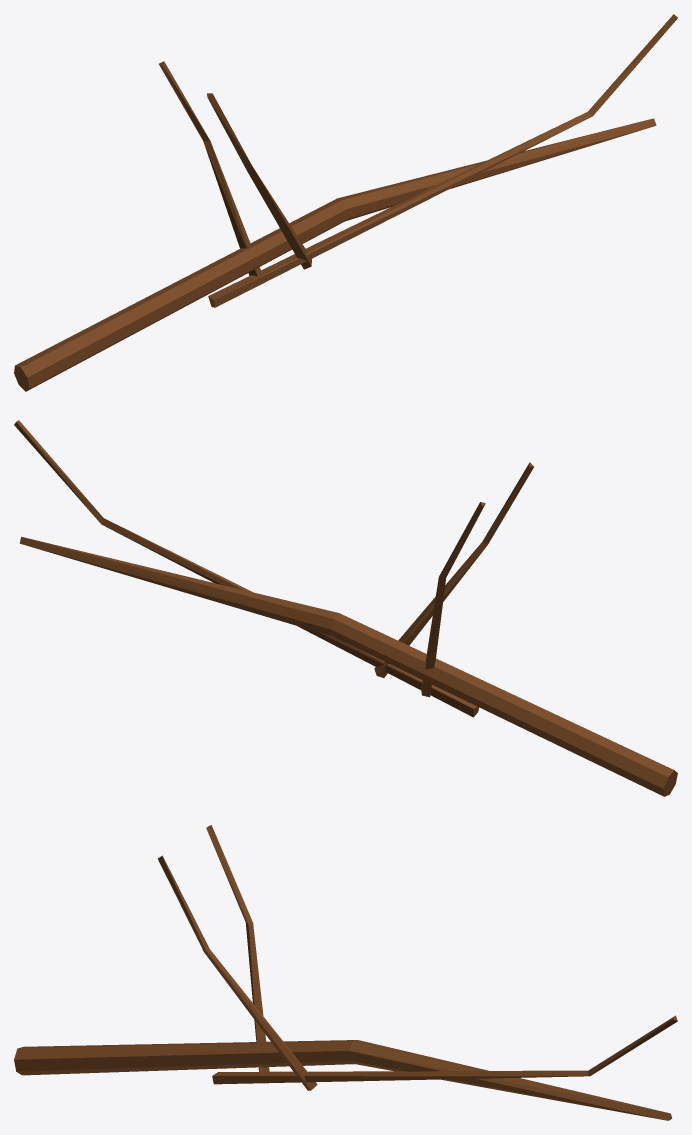
Rendered from terra_branch_a.fbx.
The picture shows the model from 3 angles, top to bottom: view 1: azimuth 30°, elevation 25°; view 2: azimuth 150°, elevation 25°; view 3: azimuth 330°, elevation 25°; orthographic projection.
Visible parts, largest first — view 1: terra_branch_a; view 2: terra_branch_a; view 3: terra_branch_a.
Part boxes in pixels (x1,y1,x2,y2): terra_branch_a: [14, 14, 677, 391]; terra_branch_a: [14, 420, 677, 796]; terra_branch_a: [14, 825, 677, 1120].
Size of the model in its own units: 3 by 1.2 by 0.4.
